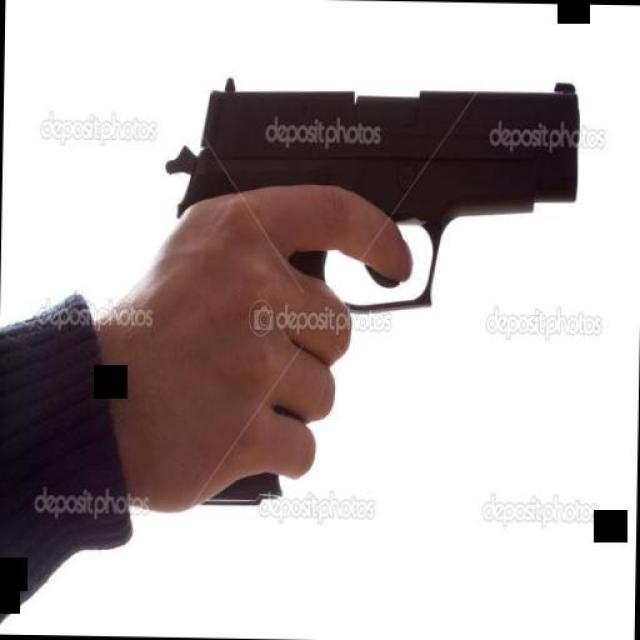gun: (155, 75, 596, 526)
